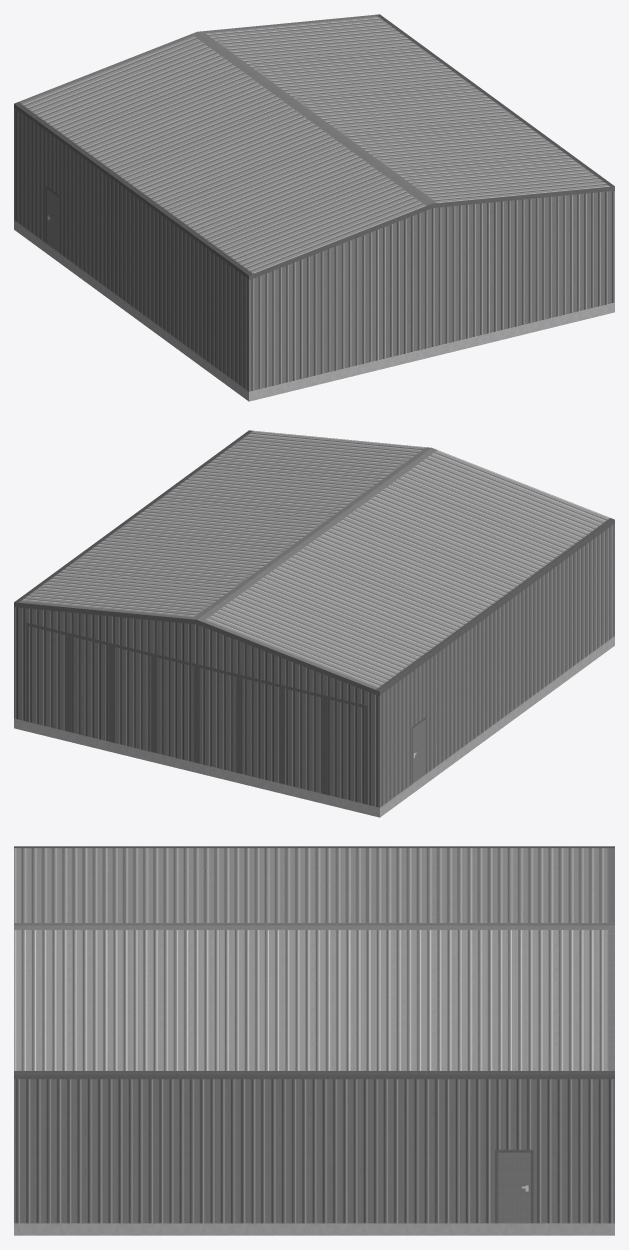
File: hangar-18x20x5grey-cbj_LOD01.gltf
3 renders of one model, top to bottom at view 1: azimuth 30°, elevation 25°; view 2: azimuth 150°, elevation 25°; view 3: azimuth 270°, elevation 25°, orthographic. The views are drawn at different scales.
Visible parts, largest first — view 1: hangar01; view 2: hangar01; view 3: hangar01.
Boxes of the visible parts, x1,y1,x2,y2 form: hangar01: (14, 14, 614, 401); hangar01: (14, 430, 614, 817); hangar01: (14, 846, 614, 1235).
Bounding box in the file's own units: 17.98 × 7.19 × 20.
